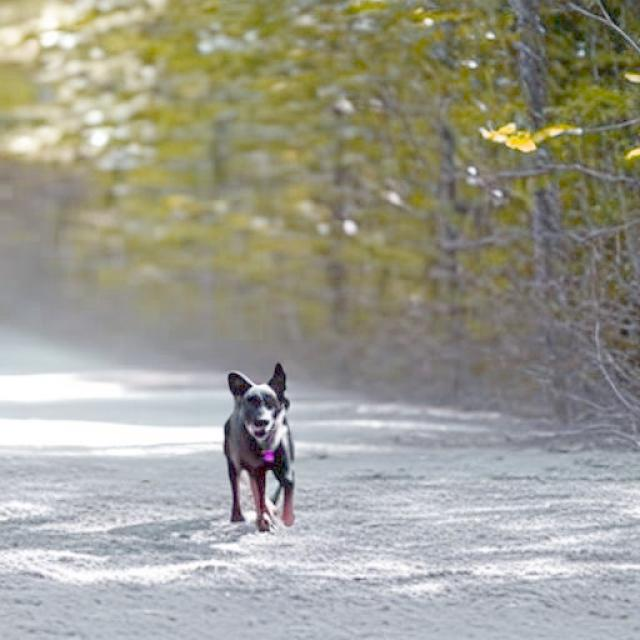Dog: (222, 361, 296, 531)
